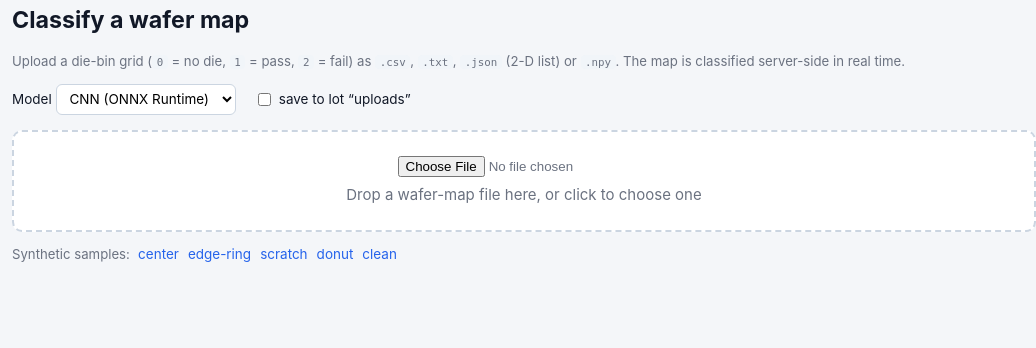
ClassifyPage › reports a sample that cannot be loaded instead of failing silently
Click the button "donut": (335,255) [312,245,358,265]
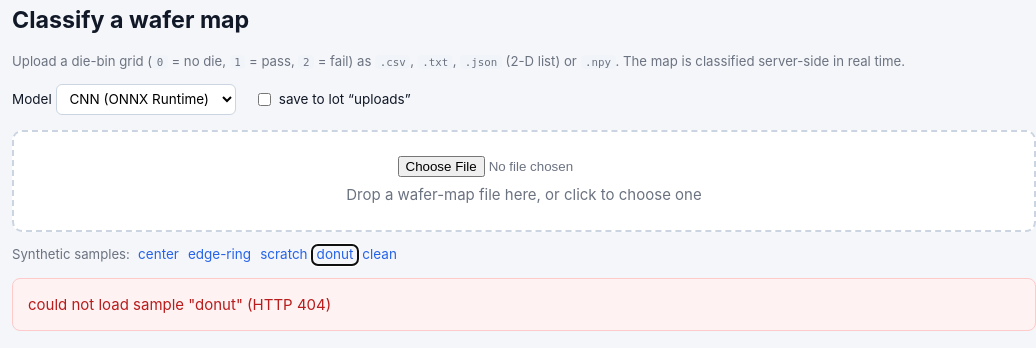
Now the message shows "sample \"donut\" (HTTP 404)", box [28,295,331,314]
